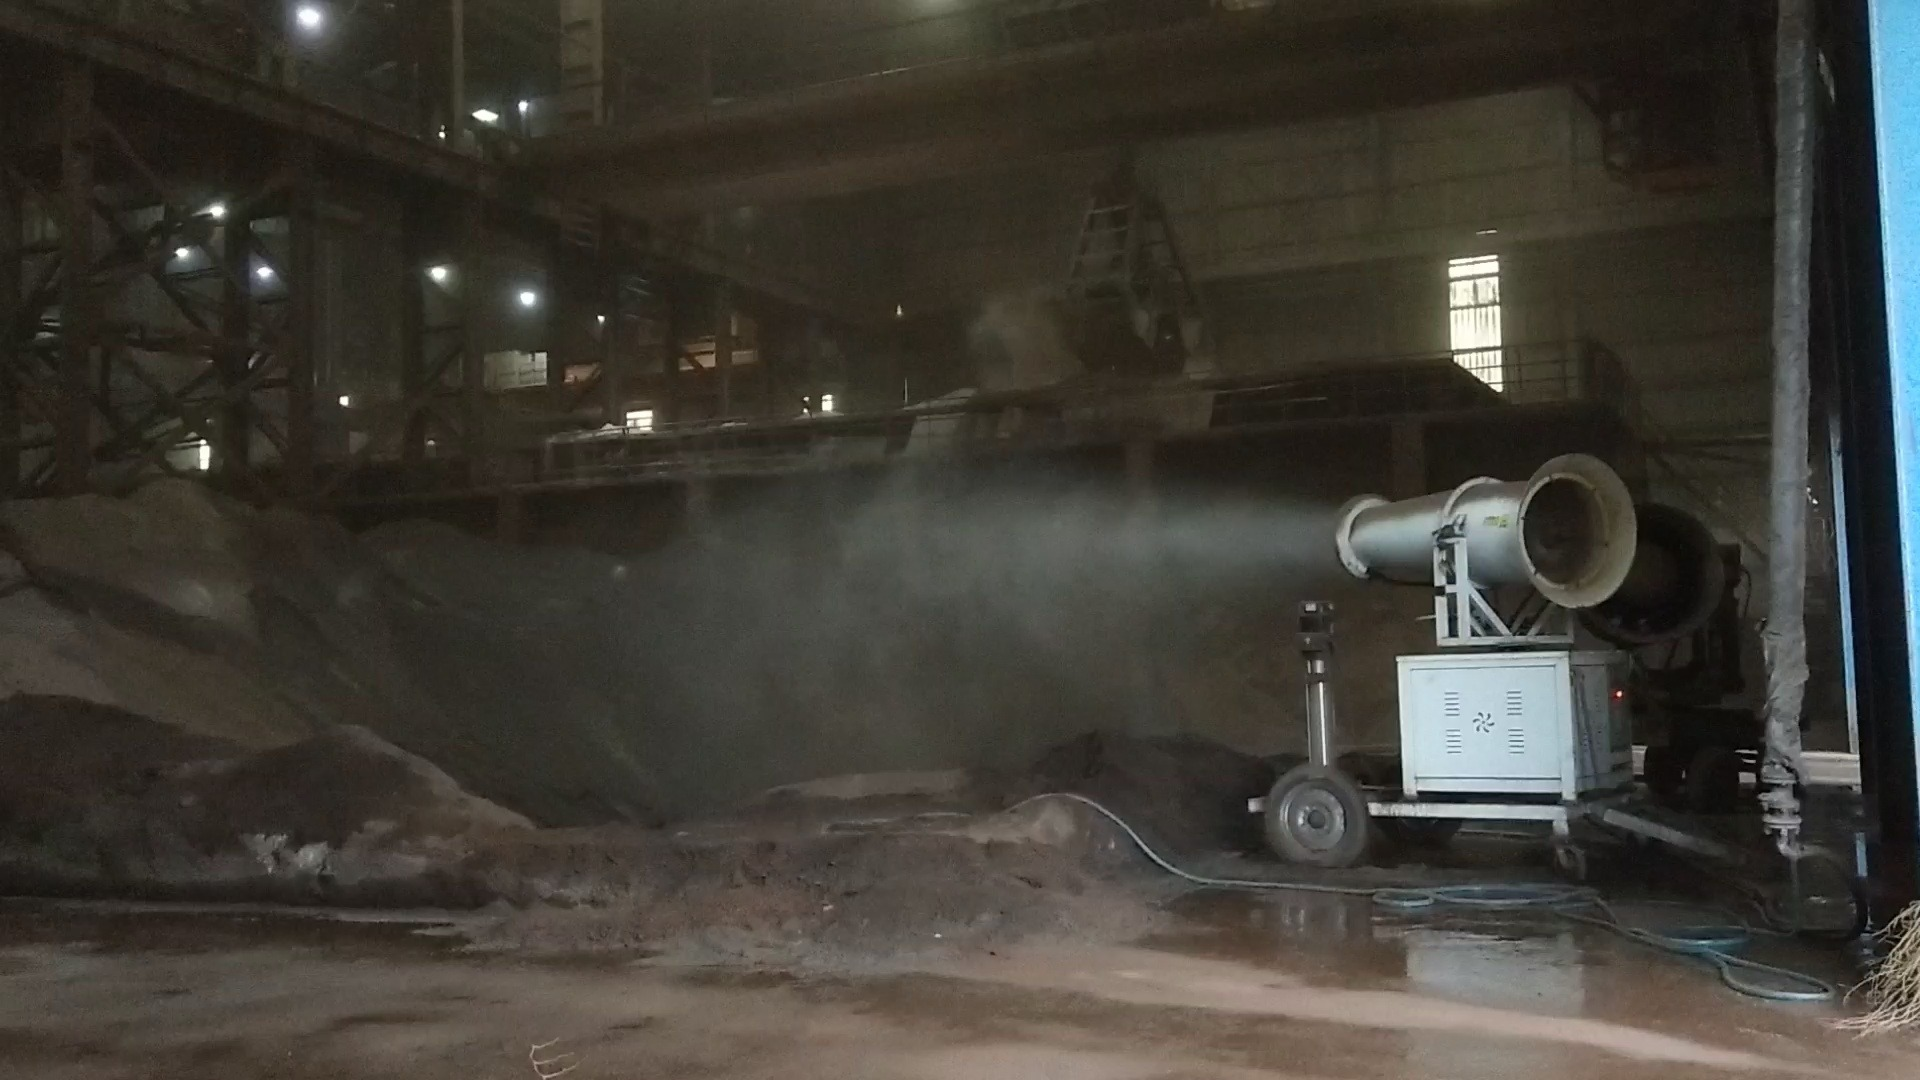dust: (438, 462, 1331, 762)
grab: (1038, 152, 1215, 380)
